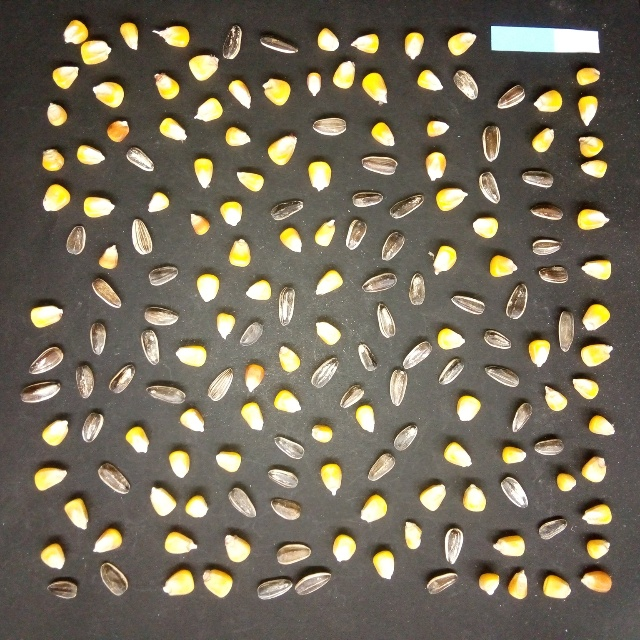escala: (491, 25, 599, 51)
girasol: (95, 458, 134, 498), (24, 343, 67, 375), (17, 377, 65, 405), (97, 561, 133, 598), (224, 485, 261, 520), (106, 358, 139, 397), (88, 276, 124, 310), (387, 189, 426, 220), (496, 475, 531, 509), (273, 538, 314, 567), (358, 152, 401, 179), (71, 358, 97, 402), (478, 363, 522, 389), (309, 354, 341, 389), (365, 449, 397, 484), (294, 570, 335, 597), (503, 280, 530, 321), (256, 33, 302, 57), (206, 366, 235, 404), (390, 418, 421, 453), (129, 216, 156, 256), (276, 283, 300, 328), (373, 299, 399, 340), (400, 338, 433, 370), (310, 113, 349, 140), (271, 432, 307, 461), (478, 123, 503, 164), (359, 269, 400, 294), (437, 353, 467, 387), (536, 513, 570, 543), (137, 327, 163, 366), (144, 383, 188, 406), (79, 409, 106, 446), (255, 575, 292, 602), (378, 230, 409, 262), (495, 82, 528, 112), (451, 68, 480, 102), (267, 497, 306, 522), (477, 170, 504, 206), (442, 526, 466, 566), (449, 292, 487, 317), (509, 400, 534, 438), (524, 200, 567, 222), (141, 304, 182, 327), (555, 308, 575, 355), (264, 467, 301, 492), (221, 23, 244, 63), (123, 146, 157, 173), (425, 570, 460, 596), (87, 317, 109, 358), (388, 367, 410, 408), (346, 216, 370, 253), (239, 317, 265, 351), (526, 236, 566, 258), (64, 223, 89, 258), (535, 263, 572, 286), (269, 197, 304, 221), (45, 578, 81, 601), (520, 166, 555, 189), (533, 433, 565, 458), (147, 263, 180, 287), (480, 327, 513, 351), (408, 267, 427, 307), (356, 340, 379, 373), (348, 189, 385, 209)
maiz: (359, 67, 394, 107), (266, 132, 300, 167), (38, 180, 73, 214), (161, 565, 197, 598), (200, 566, 236, 599), (90, 78, 127, 110), (31, 463, 70, 493), (37, 416, 73, 448), (27, 300, 66, 329), (317, 459, 346, 498), (539, 569, 574, 601), (61, 496, 92, 532), (162, 527, 201, 555), (416, 480, 449, 513), (186, 52, 220, 84), (220, 532, 254, 564), (358, 492, 389, 527), (529, 85, 564, 116), (261, 75, 293, 108), (491, 534, 530, 561), (156, 115, 191, 145), (368, 546, 398, 581), (578, 568, 615, 596), (434, 185, 472, 212), (578, 341, 616, 368), (151, 24, 192, 49), (147, 485, 178, 518), (194, 271, 223, 306), (151, 70, 182, 102), (275, 224, 306, 256), (123, 423, 154, 455), (310, 319, 343, 349), (271, 386, 304, 416), (487, 249, 520, 279), (454, 392, 484, 425), (191, 154, 217, 192), (441, 439, 475, 468), (305, 159, 333, 194), (330, 531, 358, 566), (576, 205, 612, 232), (81, 194, 118, 220), (172, 342, 209, 368), (314, 268, 346, 298), (92, 525, 124, 555), (524, 337, 553, 370), (226, 76, 254, 110), (225, 234, 253, 268), (445, 29, 479, 57), (575, 93, 602, 128), (431, 241, 458, 276), (192, 94, 224, 123), (37, 540, 66, 572), (504, 568, 532, 601), (240, 361, 267, 395), (579, 454, 609, 484), (368, 120, 399, 149), (238, 401, 267, 432), (582, 301, 611, 332), (540, 382, 569, 413), (582, 500, 614, 528), (233, 168, 266, 195), (422, 149, 449, 182), (579, 256, 614, 281), (459, 481, 487, 512), (177, 406, 209, 433), (166, 448, 193, 480), (333, 58, 358, 92), (216, 198, 244, 228), (570, 374, 601, 401), (118, 20, 144, 52), (399, 519, 425, 551), (242, 277, 275, 302), (584, 413, 618, 437), (529, 125, 556, 155), (277, 342, 302, 374), (435, 326, 467, 351), (471, 213, 500, 240), (316, 24, 342, 54), (415, 67, 445, 93), (349, 30, 380, 55), (51, 64, 82, 89), (221, 124, 253, 148), (314, 217, 338, 249), (575, 133, 607, 157), (74, 143, 107, 166), (145, 189, 172, 217), (183, 491, 209, 520), (212, 311, 237, 341), (402, 30, 427, 60), (45, 100, 70, 129), (582, 537, 612, 561), (578, 158, 612, 179), (355, 404, 378, 435), (213, 450, 244, 473), (106, 116, 131, 144), (41, 145, 66, 173), (476, 570, 501, 597), (97, 242, 121, 270), (309, 420, 336, 444), (188, 210, 211, 237), (304, 68, 324, 99), (574, 65, 602, 86), (423, 117, 451, 138), (501, 444, 528, 465), (554, 470, 578, 493)
